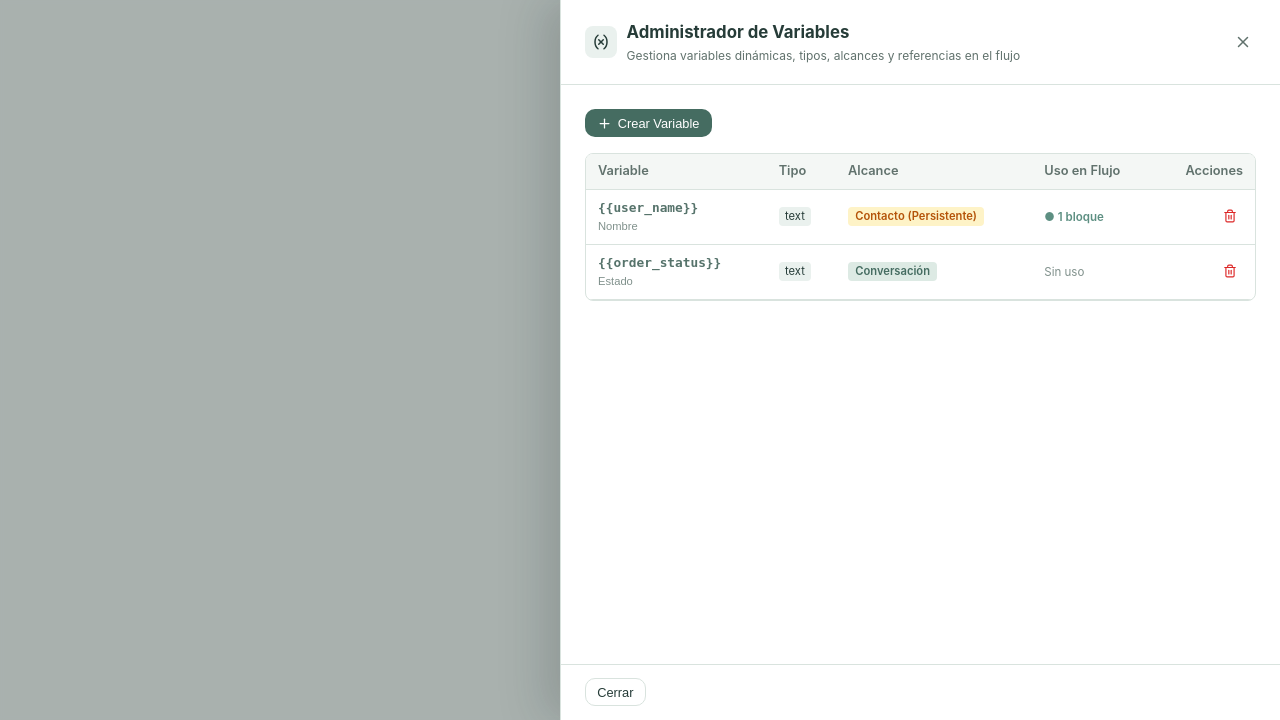
Test: Conversational Builder V3 - Frontend Components › VariableManagerModal › lists variables and detects references in flow nodes
Expected: the heading "Administrador de Variables" is shown, [627,22,849,42]
Expected: the text "{{user_name}}" is shown, [598,200,698,216]
# Open new variable form
Click the button "Crear Variable" at (648, 123), box [585,109,712,137]
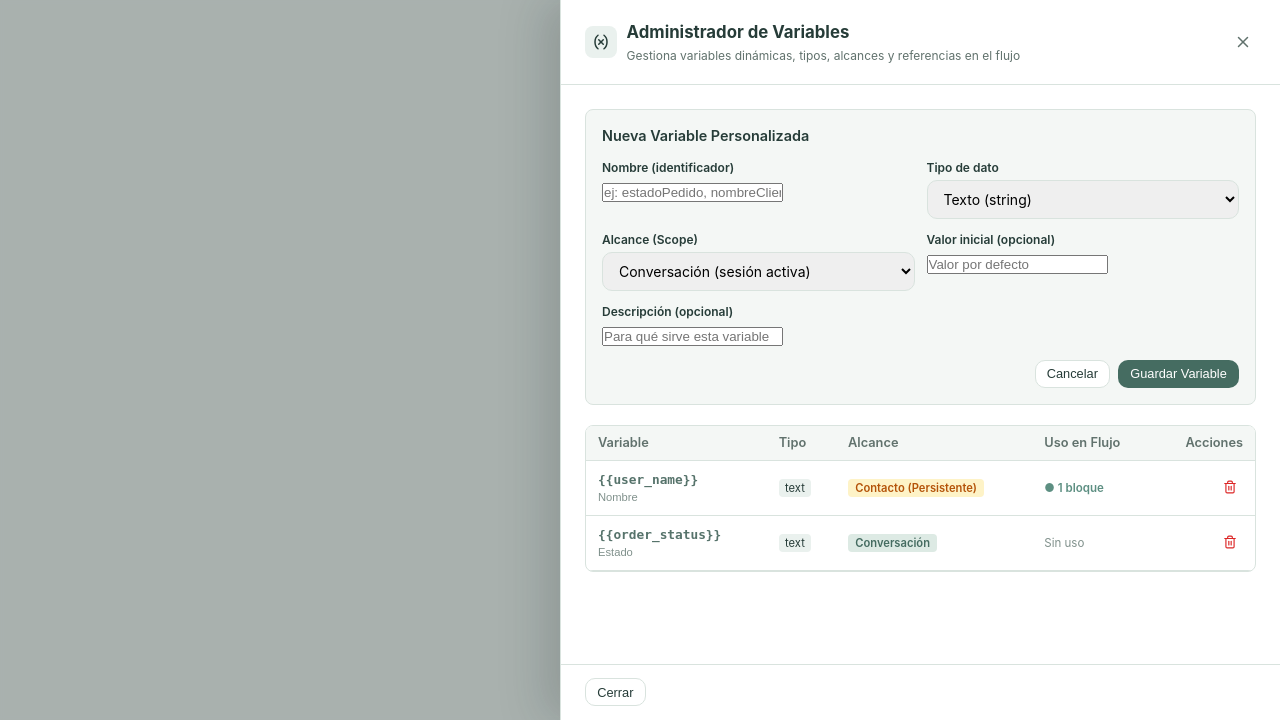
Expected: the field with placeholder "ej: estadoPedido, nombreCliente" is shown
# Fill and create variable
Type "nuevo_saldo" into the field with placeholder "ej: estadoPedido, nombreCliente" at (692, 193), box [602,183,783,202]
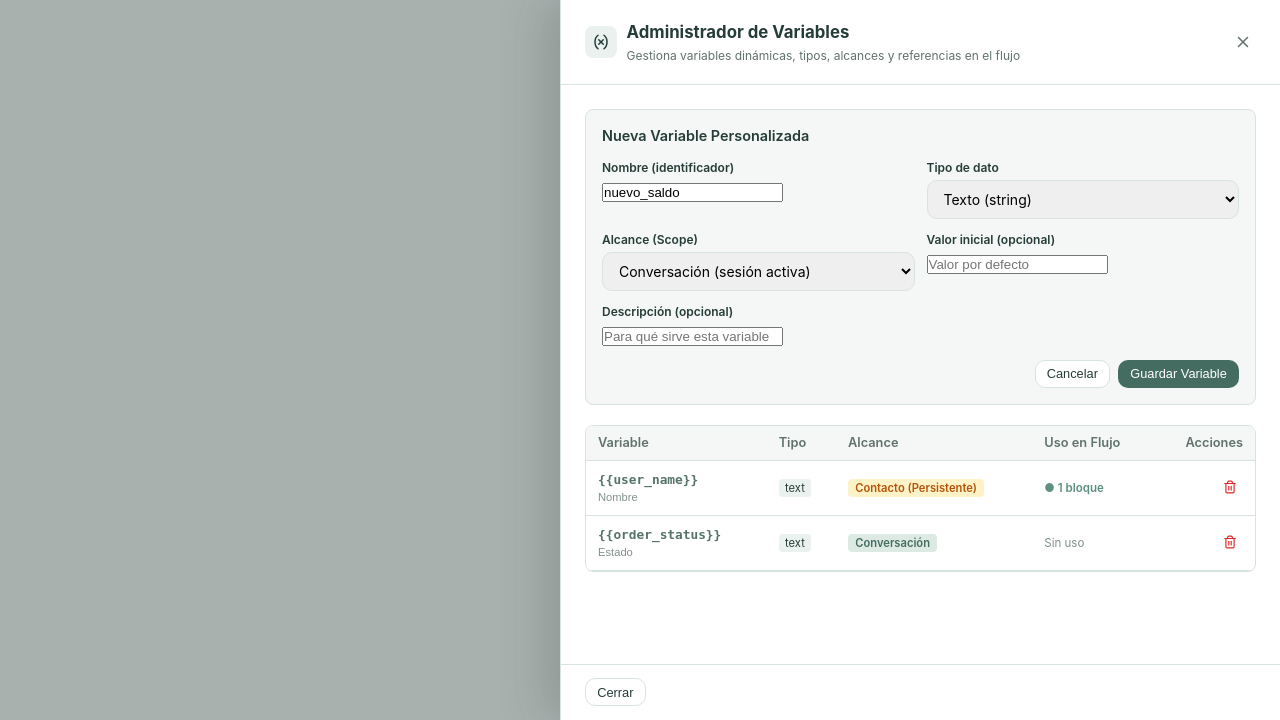
Click the button "Guardar Variable" at (1179, 374), box [1118,360,1239,388]
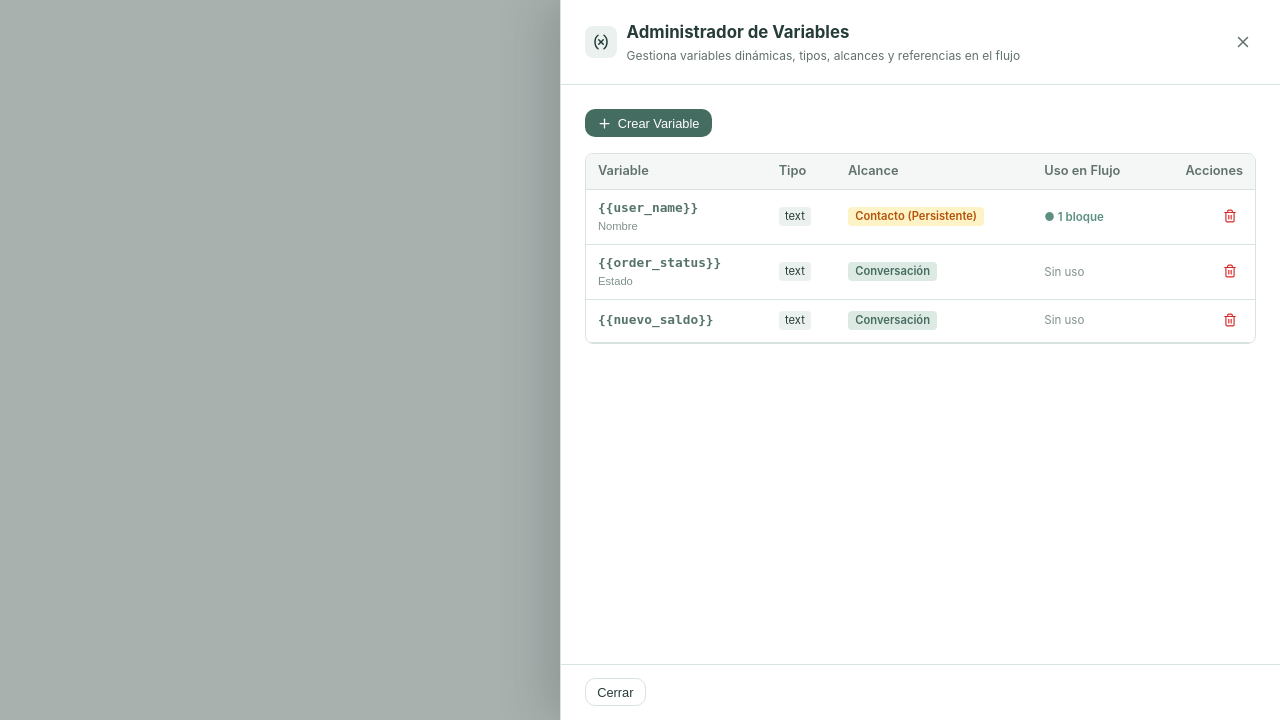
Expected: the text "{{nuevo_saldo}}" is shown, [586,299,767,342]
